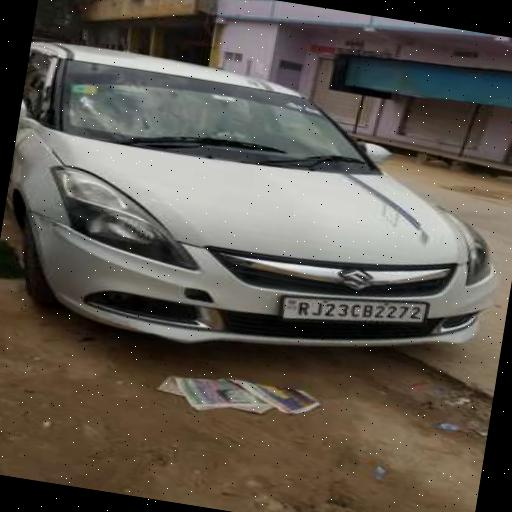license_plate`: (279, 280, 424, 338)
